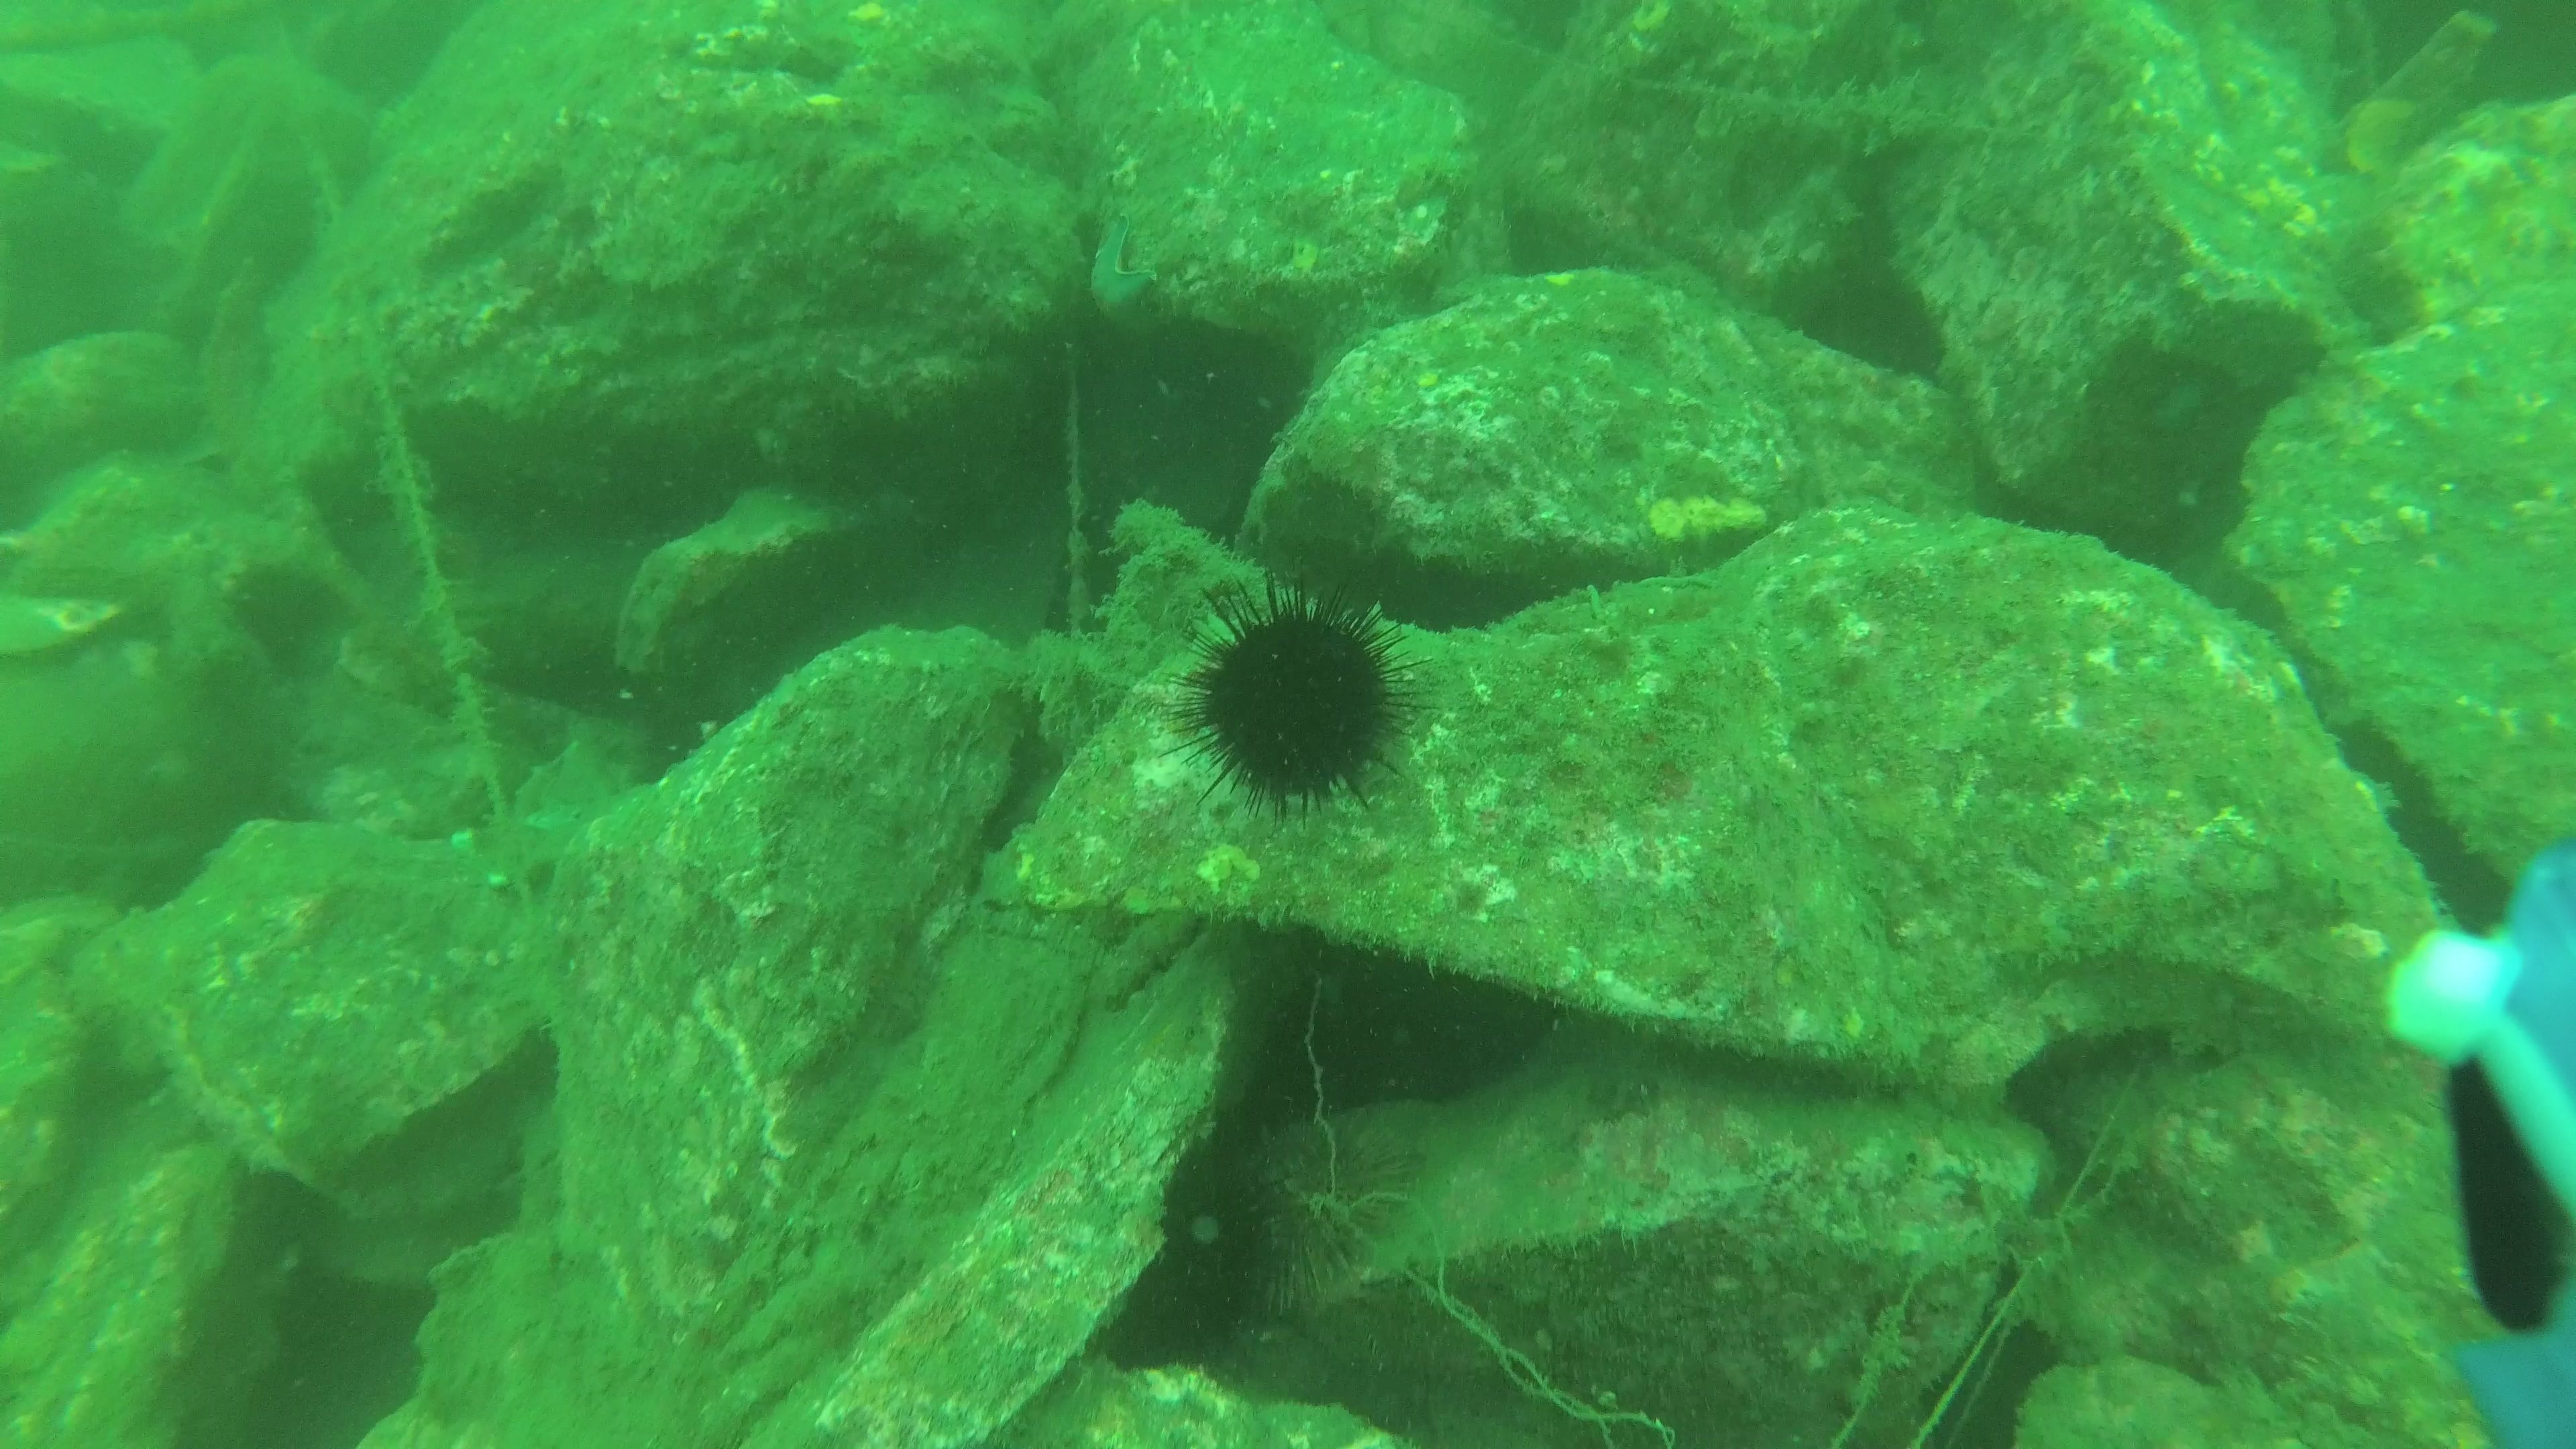echinus: (1159, 561, 1422, 830), (1111, 1141, 1286, 1371), (1265, 1093, 1412, 1302)
starfish: (1076, 209, 1171, 352)
